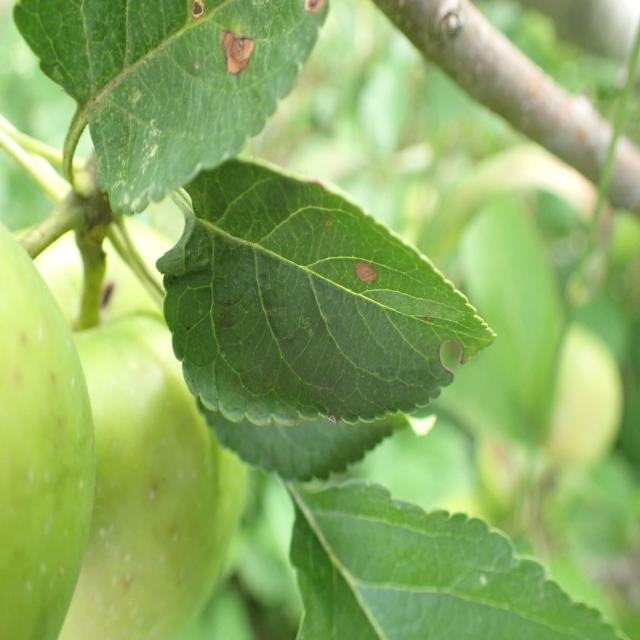Black Rot: (206, 6, 266, 94), (425, 320, 475, 407), (338, 242, 385, 297), (166, 0, 214, 32), (294, 0, 334, 31)
